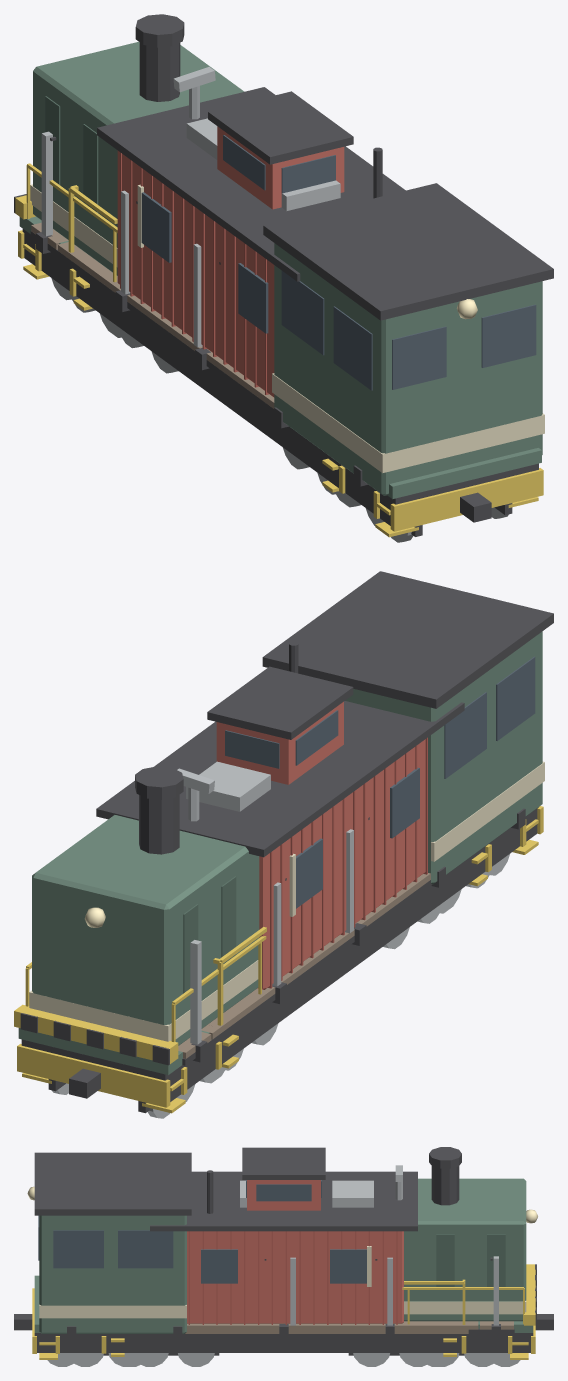
Rendered from freight_train.glb.
The picture shows the model from 3 angles, top to bottom: view 1: azimuth 30°, elevation 25°; view 2: azimuth 150°, elevation 25°; view 3: azimuth 270°, elevation 25°; orthographic projection. The views are drawn at different scales.
Visible parts, largest first — view 1: ft_loco_mesh, ft_caboose_mesh, ft_flat_mesh; view 2: ft_loco_mesh, ft_caboose_mesh, ft_flat_mesh; view 3: ft_loco_mesh, ft_caboose_mesh, ft_flat_mesh.
Part boxes in pixels (x1=…): ft_loco_mesh: x1=14, y1=14, x2=553, y2=542; ft_caboose_mesh: x1=65, y1=87, x2=405, y2=502; ft_flat_mesh: x1=30, y1=131, x2=382, y2=525; ft_loco_mesh: x1=14, y1=571, x2=553, y2=1118; ft_caboose_mesh: x1=96, y1=641, x2=491, y2=1080; ft_flat_mesh: x1=178, y1=808, x2=526, y2=1101; ft_loco_mesh: x1=14, y1=1147, x2=553, y2=1366; ft_caboose_mesh: x1=101, y1=1147, x2=468, y2=1366; ft_flat_mesh: x1=55, y1=1256, x2=514, y2=1366.
Bounding box in the file's own units: 2.9 × 4.69 × 11.7.
